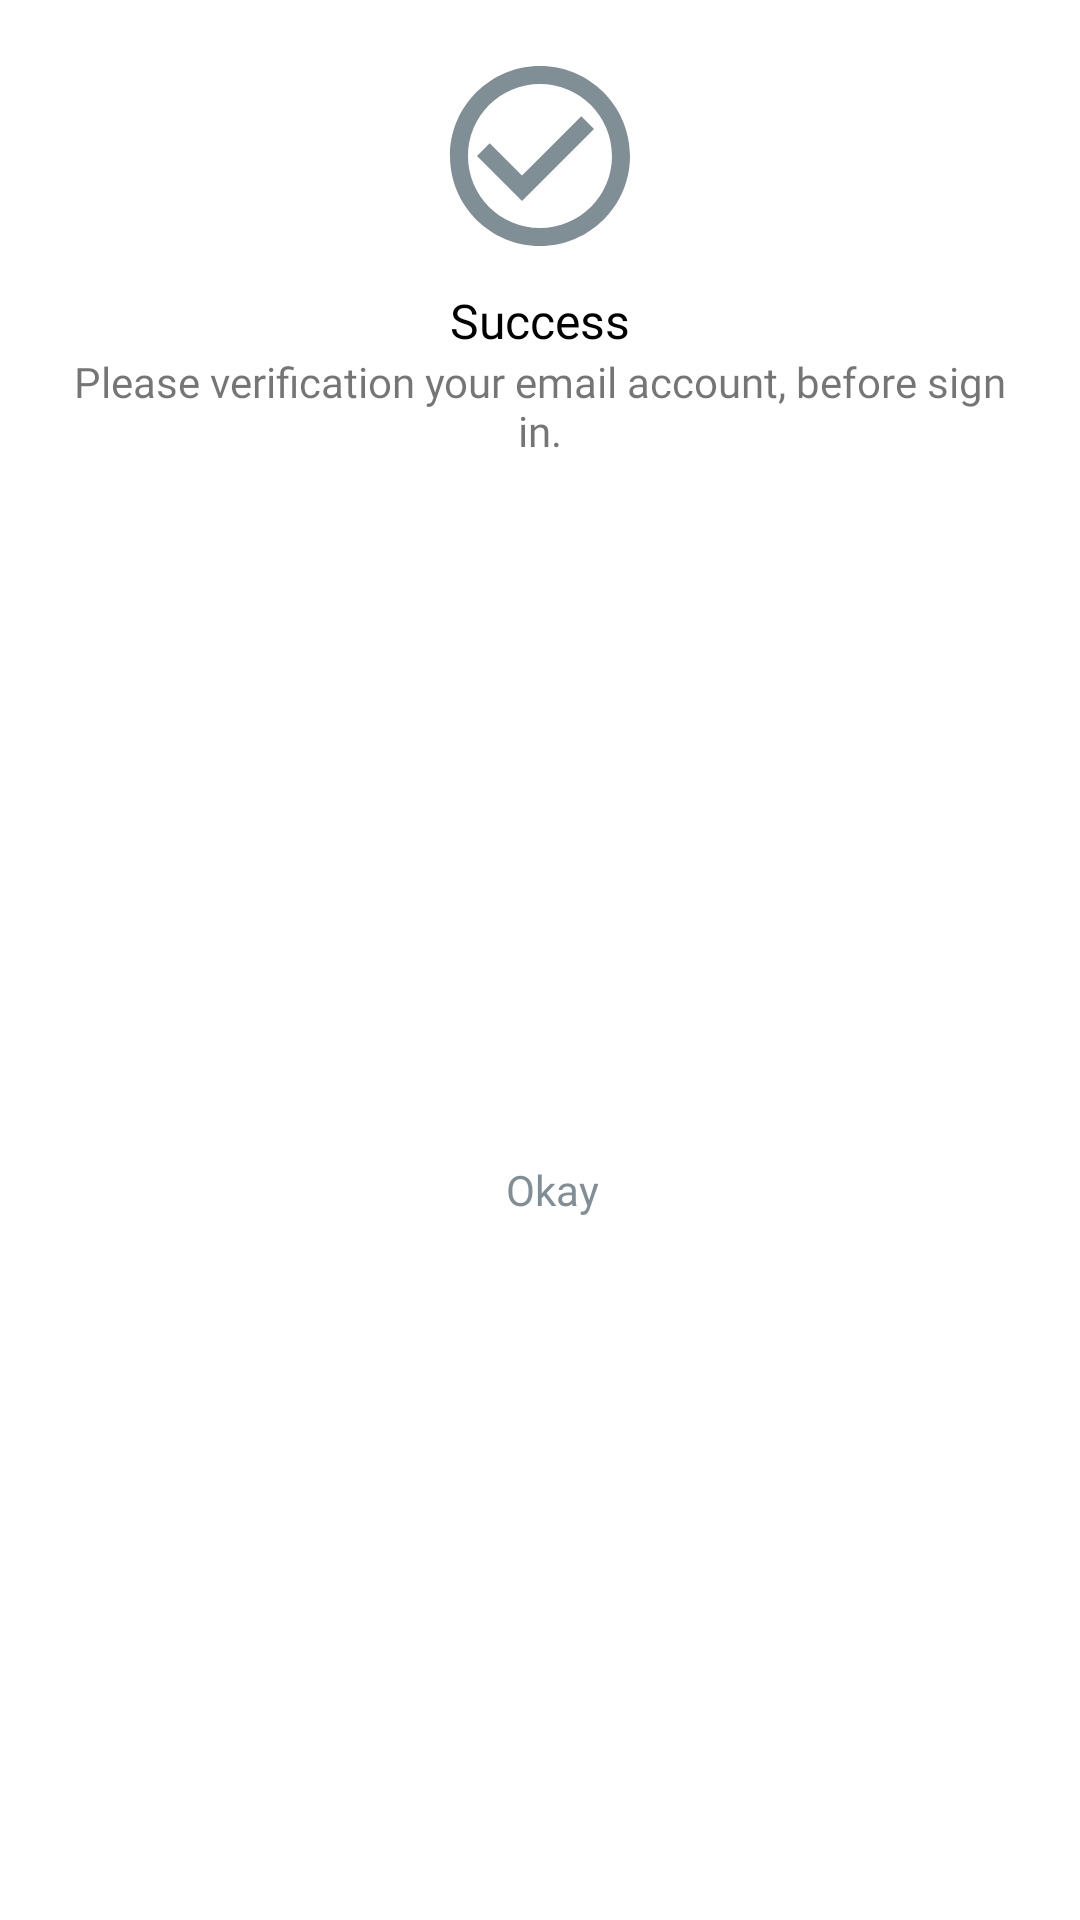

Icons on this 1080px×1920px Android screen, each with its box as Rect(x1, y1, x2, y2):
check circle: Rect(450, 66, 630, 246)
